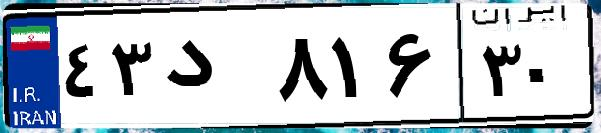0: (525, 38, 570, 115)
1: (330, 28, 385, 110)
3: (475, 38, 525, 113), (110, 28, 158, 98)
4: (57, 26, 110, 100)
6: (385, 28, 445, 110)
8: (270, 28, 330, 110)
د: (158, 20, 270, 120)
